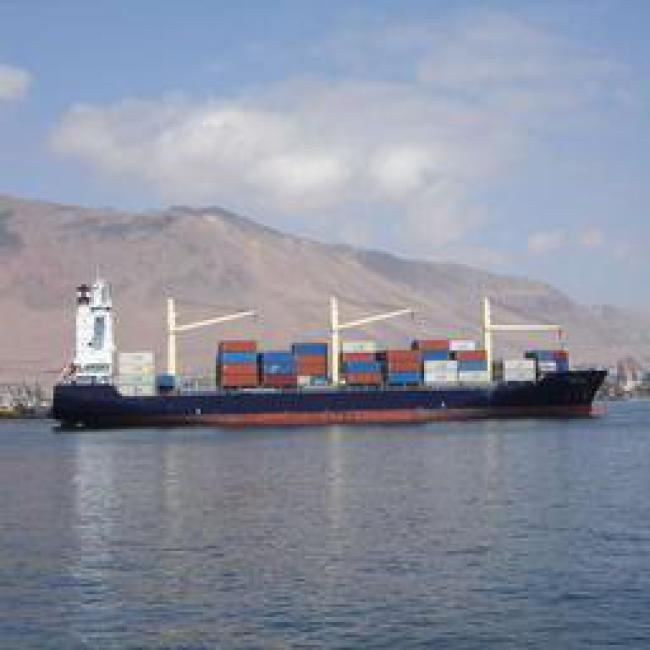Ship: (34, 293, 613, 424)
